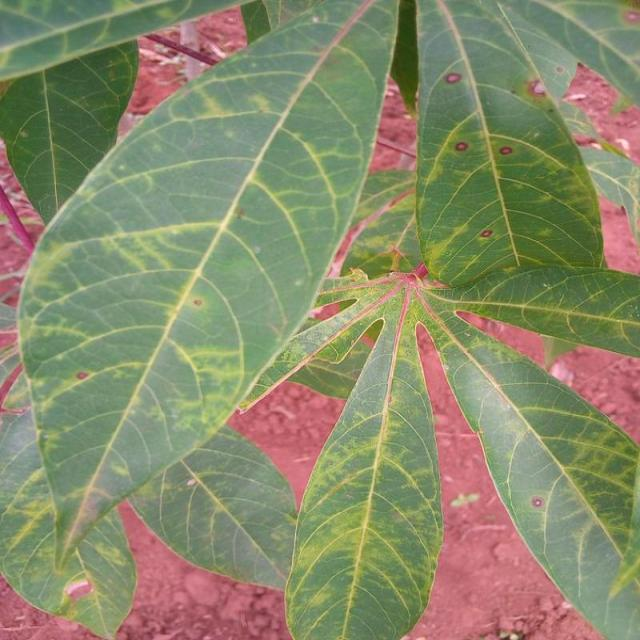cassava leaf: (2, 0, 638, 638), (412, 0, 637, 357), (283, 280, 444, 638)
